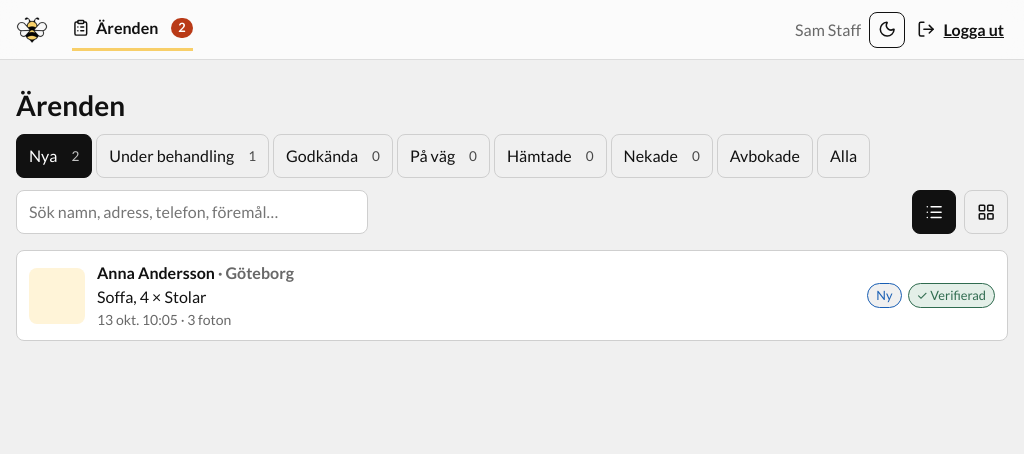
cancellations › shows why customers cancelled under the Avbokade tab, searchable
Click the tab "Avbokade". click: (765, 156)
box: left=717, top=134, right=813, bottom=178
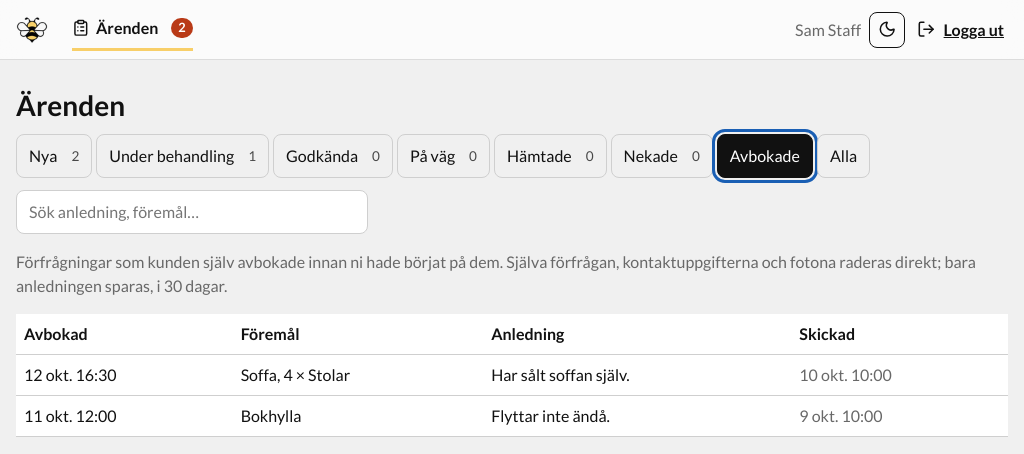
Result: the row that starts with "12 okt. 16:30" shows "Har sålt soffan själv." at left=491, top=365, right=630, bottom=384
Result: the row that starts with "12 okt. 16:30" shows "Soffa, 4 × Stolar" at left=241, top=365, right=350, bottom=384
Result: the number of rows is 3 at left=16, top=314, right=1008, bottom=354; left=16, top=354, right=1008, bottom=396; left=16, top=396, right=1008, bottom=436
Type "bokhylla" into the search field named "Sök avbokningar". click: (192, 212)
box: left=16, top=190, right=368, bottom=234
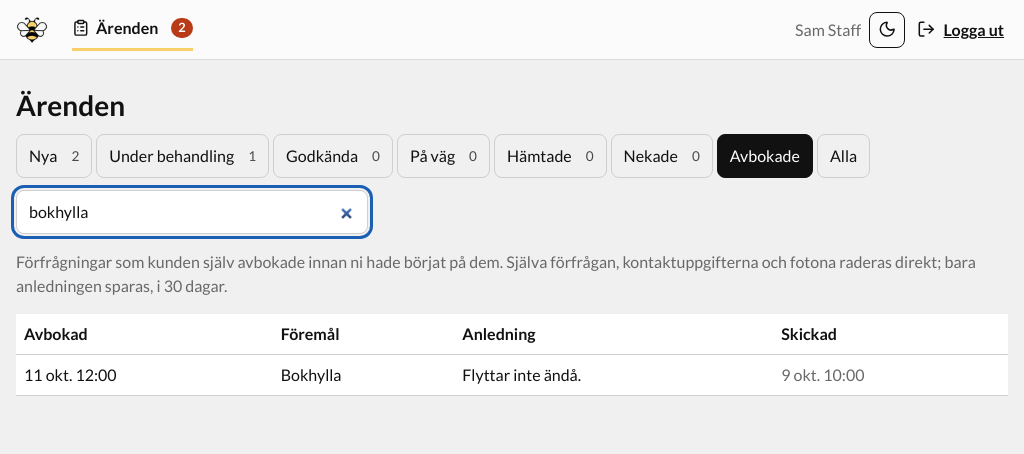
Result: the text "Flyttar inte ändå." is shown at left=454, top=354, right=773, bottom=396
Result: the number of rows is 2 at left=16, top=314, right=1008, bottom=354; left=16, top=354, right=1008, bottom=396
